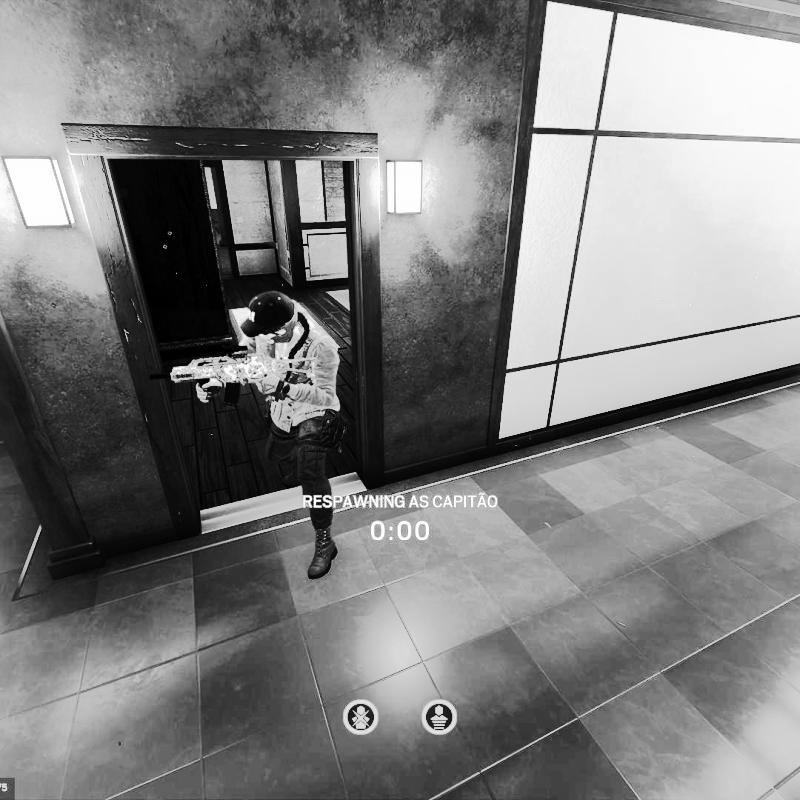Character: (147, 288, 353, 582)
Head: (244, 289, 302, 350)
